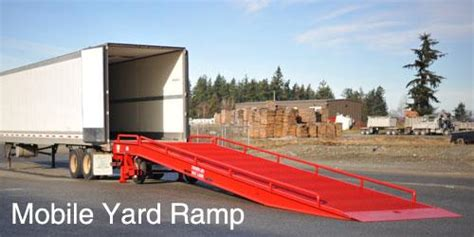Yard Ramp: (113, 139, 461, 223)
